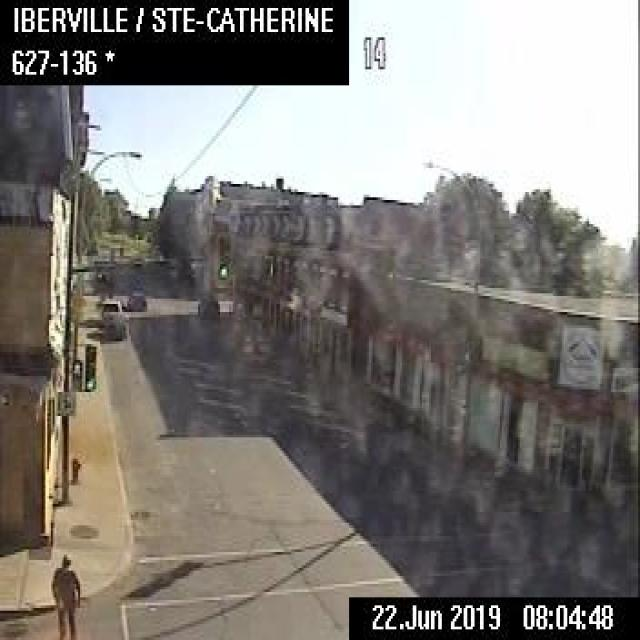pedestrian: (49, 552, 82, 637)
vehicle: (98, 312, 126, 338), (196, 293, 218, 317), (126, 290, 146, 308), (100, 297, 121, 314)
